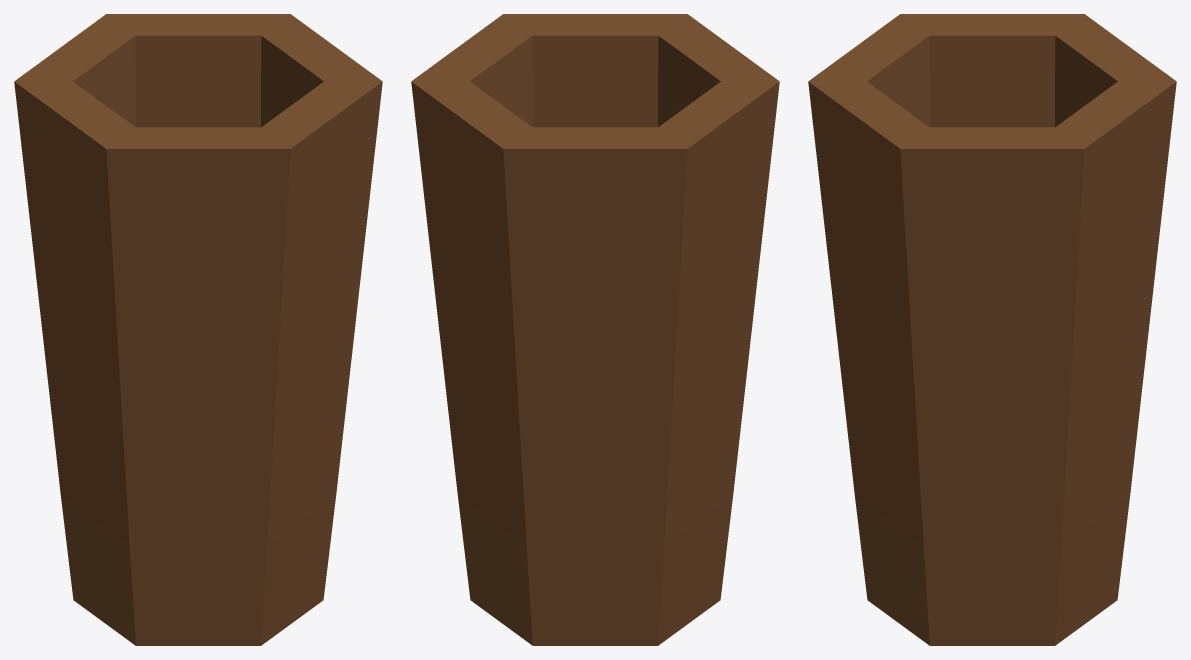
File: CupBrown.fbx
3 views of the same model, side by side, from view 1: azimuth 30°, elevation 25°; view 2: azimuth 150°, elevation 25°; view 3: azimuth 270°, elevation 25° (orthographic).
Parts seen in each view (by area): view 1: CupBrown; view 2: CupBrown; view 3: CupBrown.
Boxes of the visible parts, box(x1,y1,x2,y2) form: CupBrown: box(14, 14, 382, 645); CupBrown: box(411, 14, 779, 645); CupBrown: box(808, 14, 1176, 645).
Bounding box in the file's own units: 0.1064 × 0.1908 × 0.1229.
